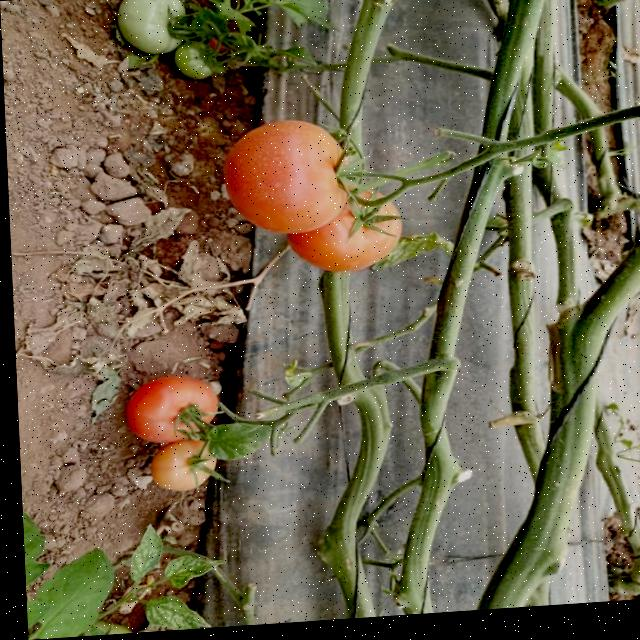Ripe Tomato: (210, 116, 356, 241), (282, 188, 405, 278), (120, 373, 218, 449), (146, 439, 215, 495)
Unripe Tomato: (118, 0, 198, 58), (173, 41, 222, 83)
